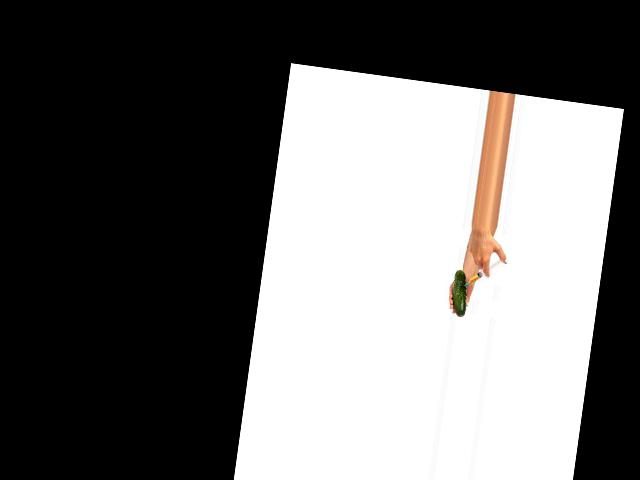cucumber: (449, 270, 470, 318)
